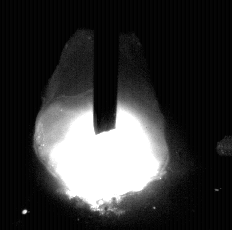arame: (94, 0, 118, 135)
poca: (33, 0, 165, 230)
